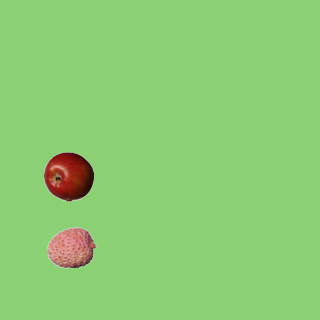Apple Braeburn: (43, 151, 93, 201)
Lychee: (46, 222, 96, 272)
